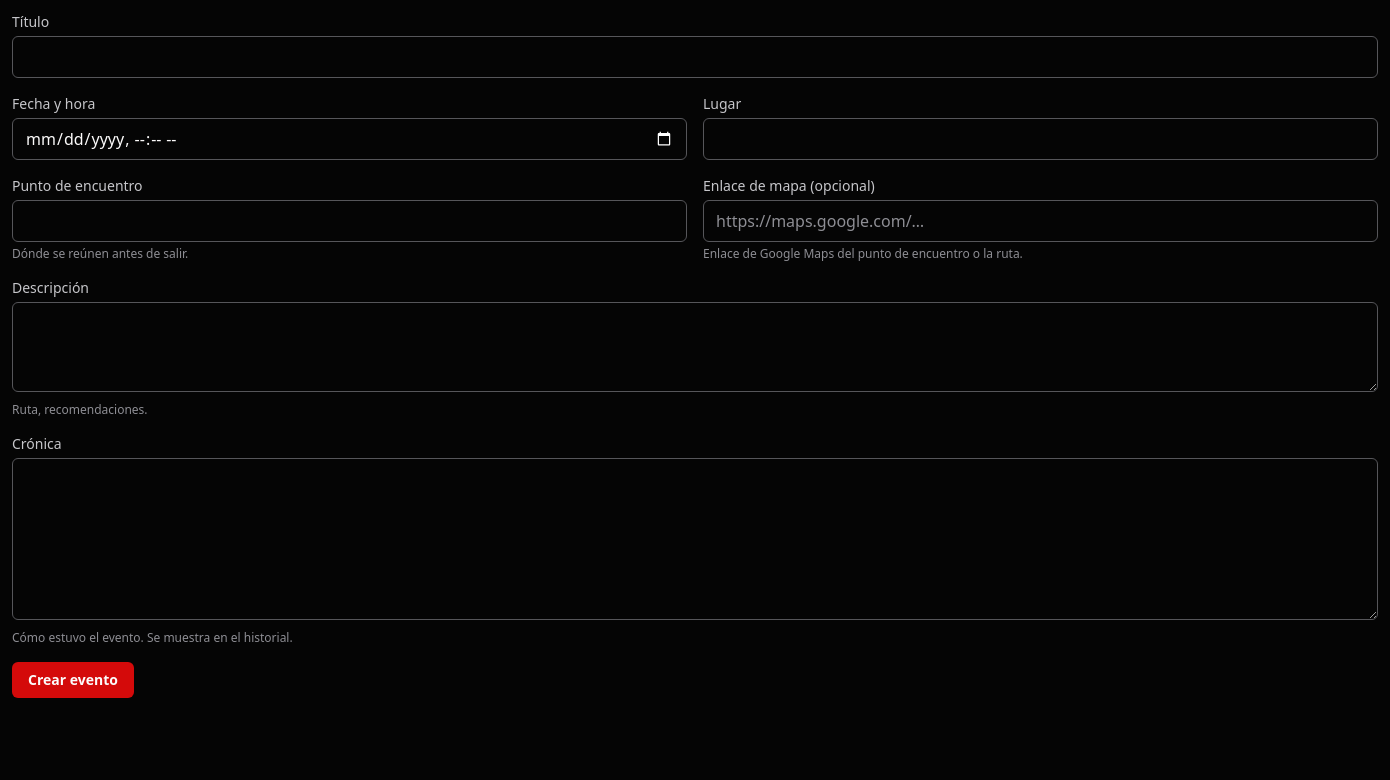
Test: EventForm › exige título y fecha
The width and height of the screenshot is (1390, 780).
What coordinates should you click on to do the following:
click the button "Crear evento"
I would click on:
 (73, 680)
Its box is [12,662,134,698].
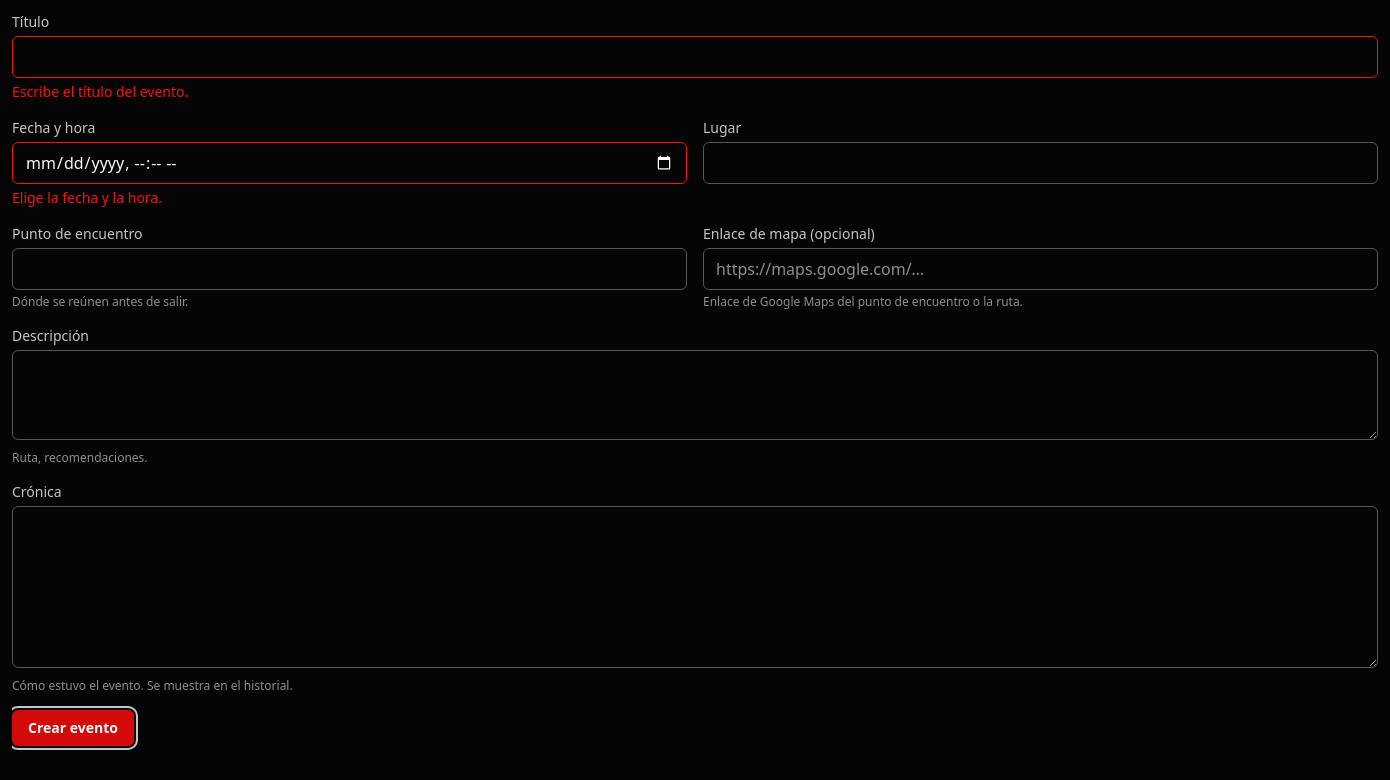
Now the text "Escribe el título del evento." is shown, box [12,82,188,101]
Now the text "Elige la fecha y la hora." is shown, box [12,188,162,207]
